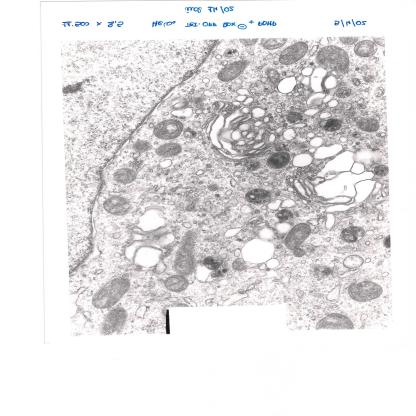mitochondria: (92, 277, 131, 309), (172, 230, 199, 274), (284, 222, 312, 258), (316, 45, 350, 73), (99, 307, 130, 334), (348, 280, 383, 303), (278, 41, 309, 65), (218, 59, 250, 82), (314, 313, 355, 329), (152, 119, 184, 139), (102, 195, 130, 216), (155, 142, 184, 158), (266, 151, 290, 170), (354, 116, 382, 132), (164, 274, 188, 292), (113, 167, 138, 184), (354, 40, 378, 57), (260, 38, 286, 49), (132, 140, 154, 152), (286, 111, 304, 123)
